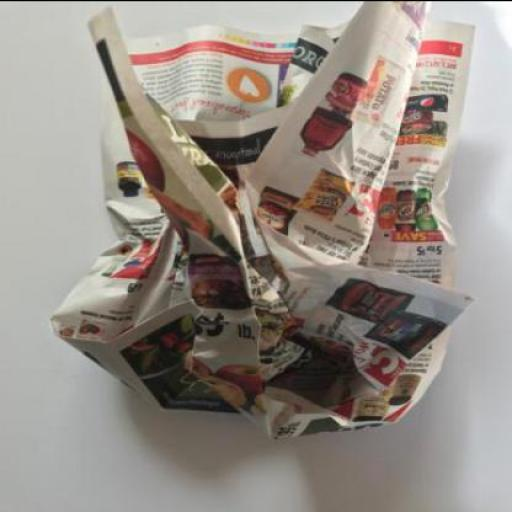paper: (50, 1, 478, 438)
